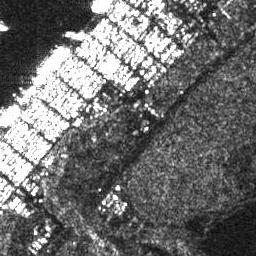ship: (36, 44, 66, 75), (63, 27, 87, 43)
